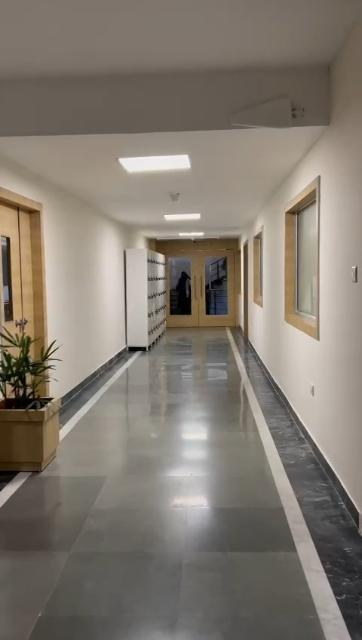door: (0, 195, 46, 342), (168, 237, 236, 335)
floor: (0, 334, 362, 640)
object: (0, 340, 70, 466)
wall: (313, 107, 362, 444), (45, 182, 123, 348), (258, 197, 290, 355)
